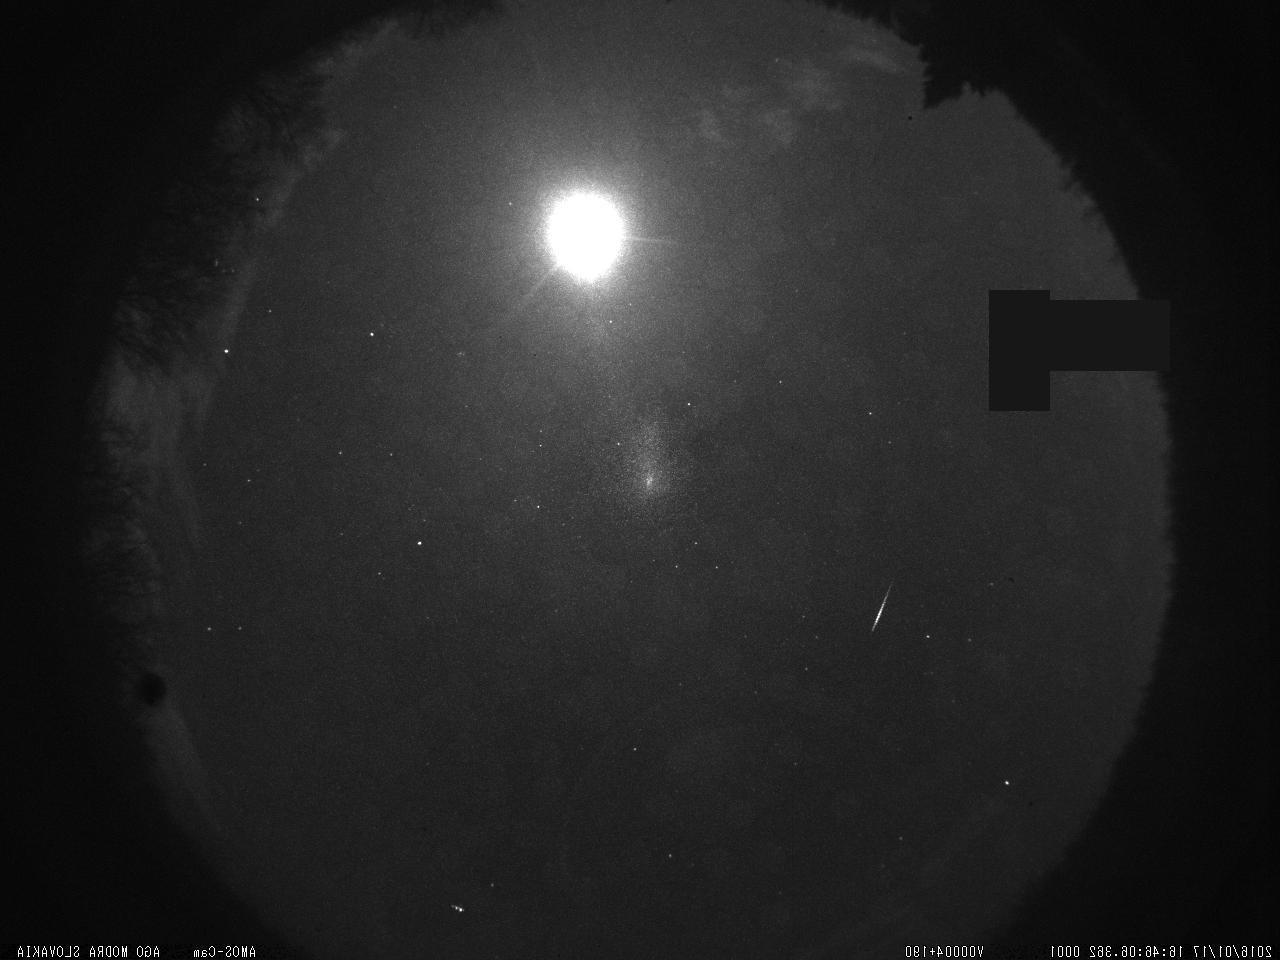meteor: (860, 570, 908, 648)
